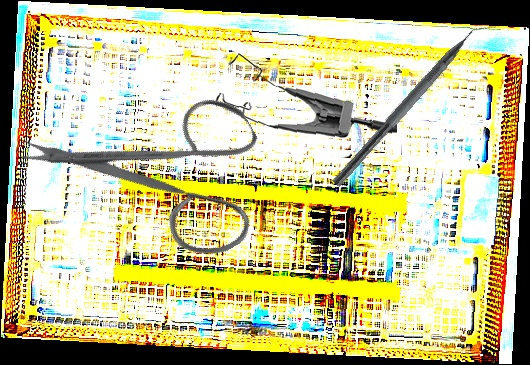Chopper: (332, 11, 498, 198)
Iris Scissors: (15, 38, 299, 317)
Speculum: (213, 45, 398, 145)
